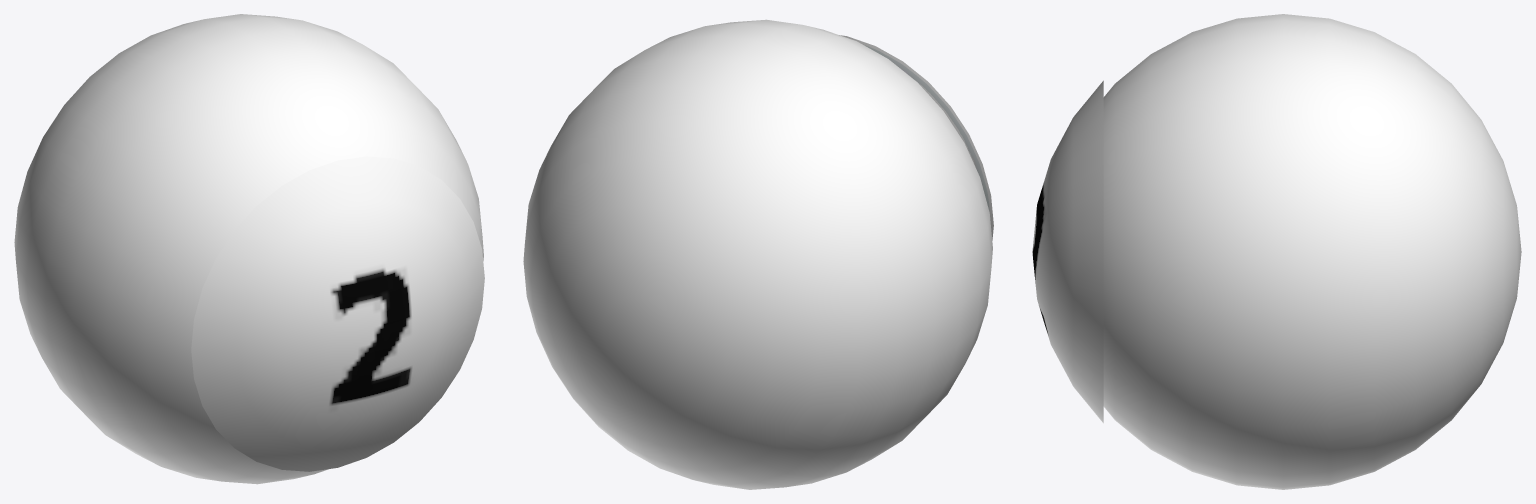
File: ball_02.fbx
The picture shows the model from 3 angles, left to right: view 1: azimuth 30°, elevation 25°; view 2: azimuth 150°, elevation 25°; view 3: azimuth 270°, elevation 25°; orthographic projection.
Parts seen in each view (by area): view 1: ball_02, ball_number_alpha02; view 2: ball_02, ball_number_alpha02, ball_01_alpha; view 3: ball_02, ball_number_alpha02.
Boxes of the visible parts, x1=… form: ball_02: x1=14, y1=14, x2=483, y2=484; ball_number_alpha02: x1=191, y1=156, x2=484, y2=471; ball_02: x1=523, y1=19, x2=992, y2=489; ball_number_alpha02: x1=839, y1=35, x2=993, y2=240; ball_01_alpha: x1=863, y1=44, x2=989, y2=213; ball_02: x1=1103, y1=14, x2=1521, y2=489; ball_number_alpha02: x1=1032, y1=80, x2=1103, y2=423.
Size of the model in its own units: 149 by 149 by 153.
3 materials, 3 textured.
